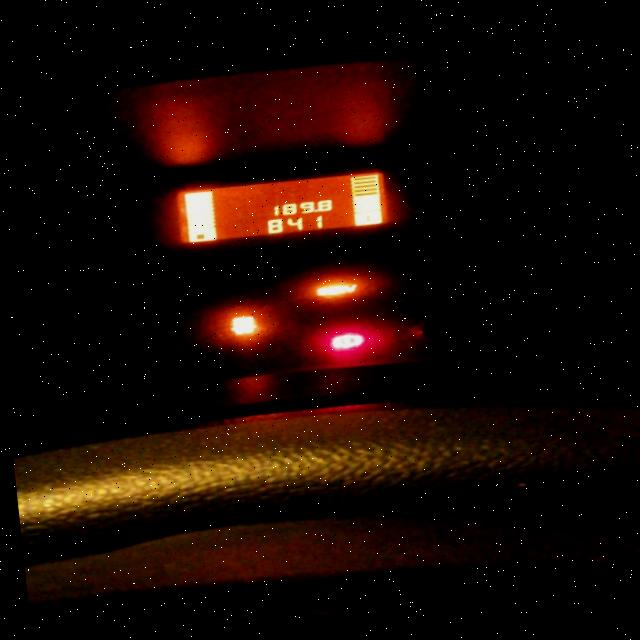odometer: (164, 164, 394, 250)
